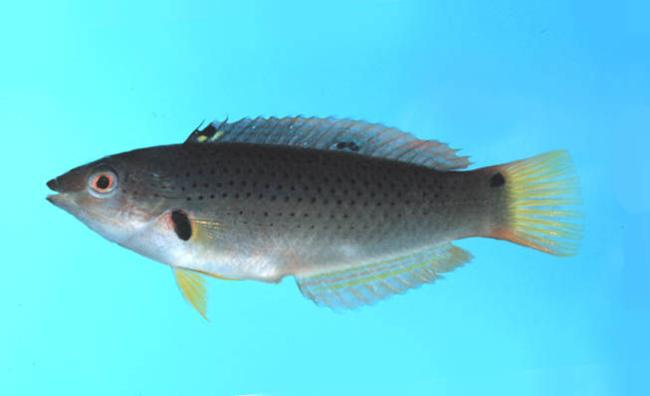fish: (44, 114, 585, 325)
